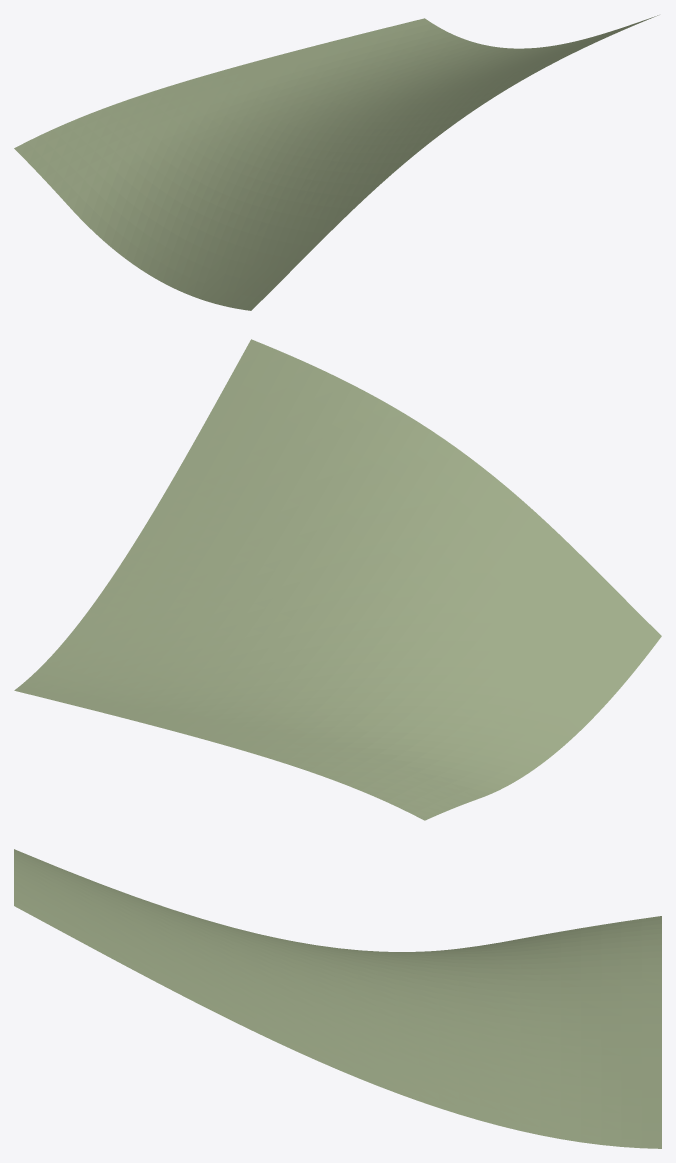
File: expanse-16-1.glb
3 views of the same model, one above another, from view 1: azimuth 30°, elevation 25°; view 2: azimuth 150°, elevation 25°; view 3: azimuth 270°, elevation 25° (orthographic). The views are drawn at different scales.
Parts seen in each view (by area): view 1: expanse-16-1; view 2: expanse-16-1; view 3: expanse-16-1.
Part boxes in pixels (x1,y1,x2,y2): expanse-16-1: [14, 15, 658, 310]; expanse-16-1: [14, 339, 661, 820]; expanse-16-1: [14, 849, 661, 1148].
Size of the model in its own units: 256 by 141 by 256.
